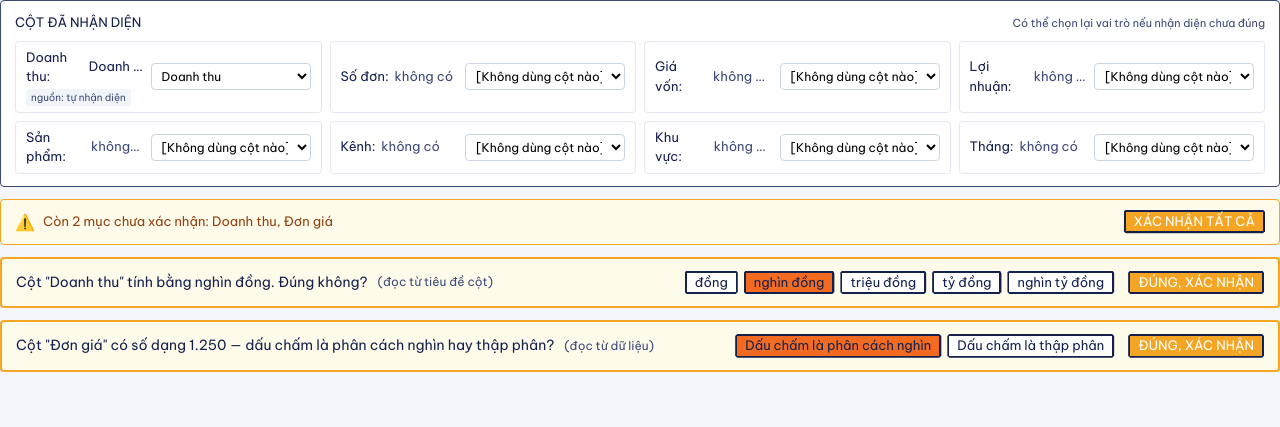
Test case: Prompt 1C-2a-UI Verification Suite (Phần C & E1) › 1. Summary Line (C2) › shows "Đã xác nhận đủ" when all items are confirmed
Click the button "ĐÚNG, XÁC NHẬN" in the row of "đọc từ tiêu đề cột": (1196, 282) [1128,270,1264,294]
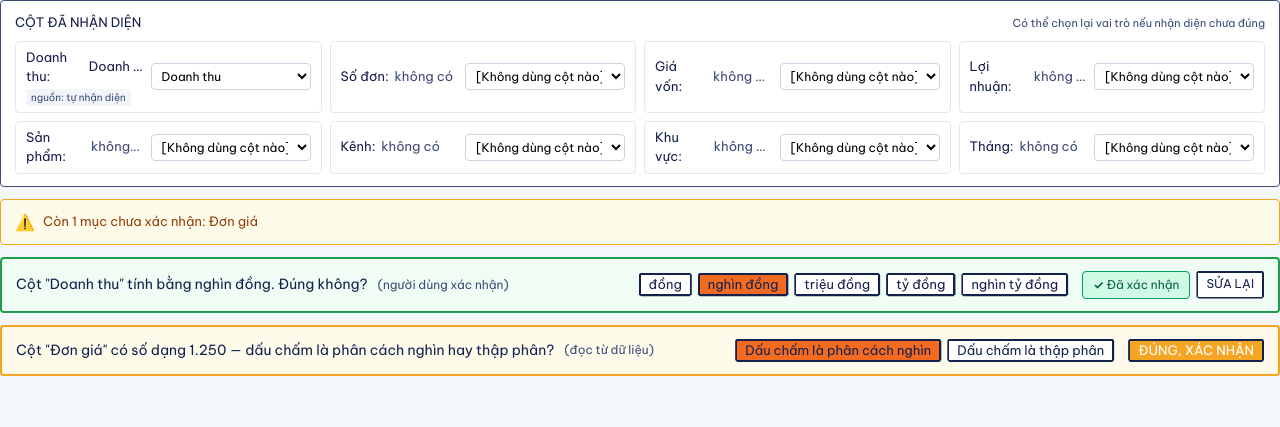
Click the button "ĐÚNG, XÁC NHẬN": (1196, 350) [1128,338,1264,362]
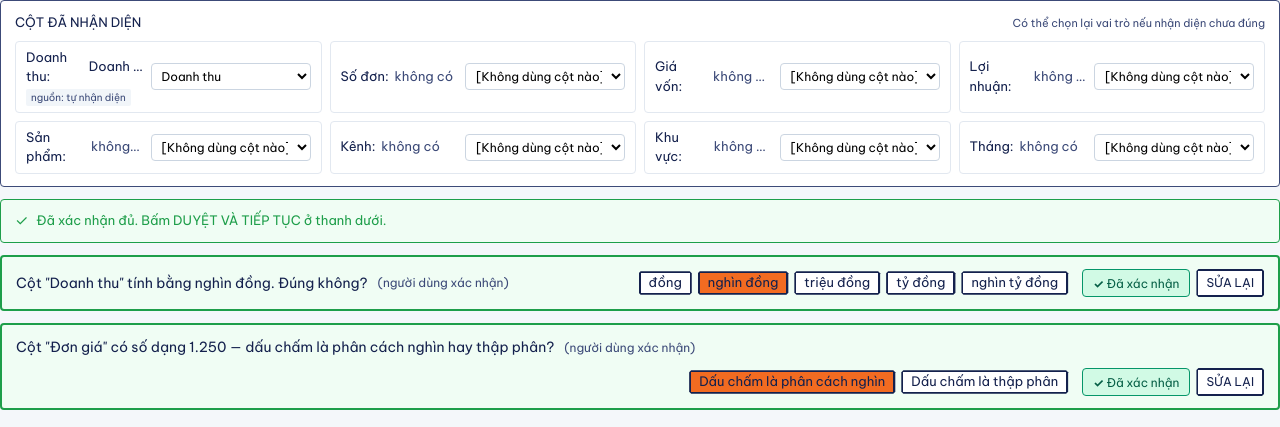
Now the text "Đã xác nhận đủ. Bấm DUYỆT VÀ TIẾP TỤC ở thanh dưới." is shown, box [36,211,387,230]
